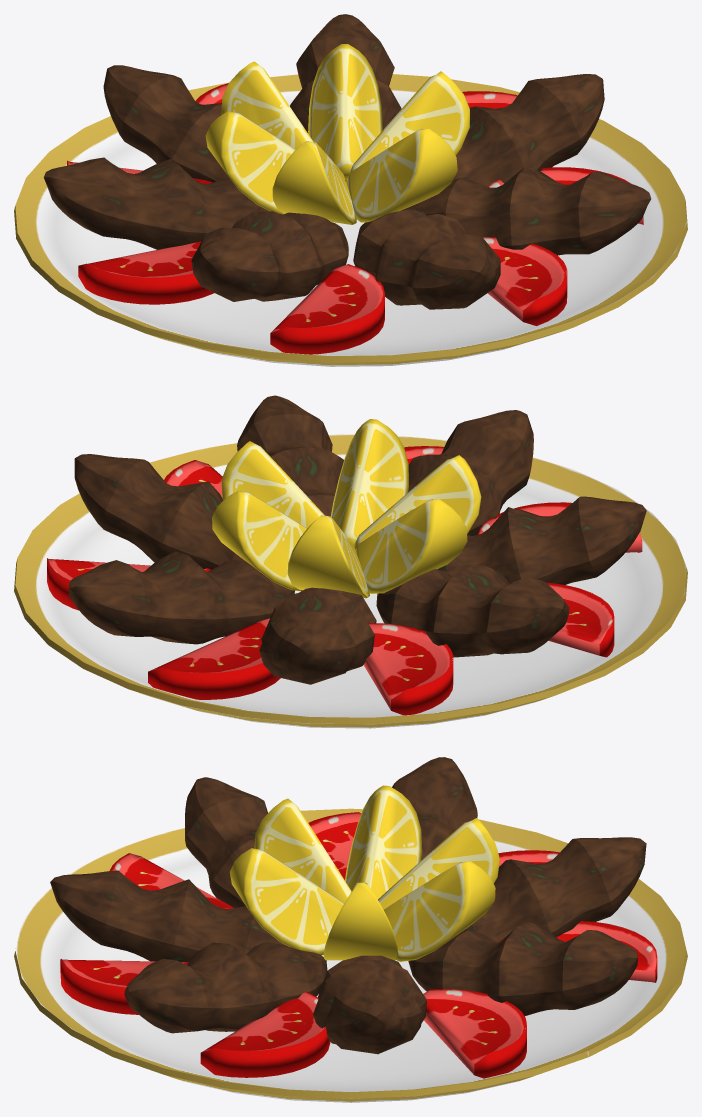
Rendered from TabakDomatesLimonÇiğköfte.fbx.
3 renders of one model, top to bottom at view 1: azimuth 30°, elevation 25°; view 2: azimuth 150°, elevation 25°; view 3: azimuth 270°, elevation 25°, orthographic.
Parts seen in each view (by area): view 1: TabakDomatesÇiğköfteLimon; view 2: TabakDomatesÇiğköfteLimon; view 3: TabakDomatesÇiğköfteLimon.
Part boxes in pixels (x1,y1,x2,y2): TabakDomatesÇiğköfteLimon: (14, 14, 687, 366); TabakDomatesÇiğköfteLimon: (14, 395, 687, 728); TabakDomatesÇiğköfteLimon: (14, 757, 687, 1102).
Bounding box in the file's own units: 0.8717 × 0.2052 × 0.8717.
